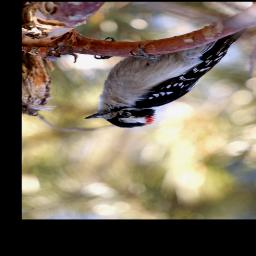Woodpecker: (84, 28, 244, 128)
